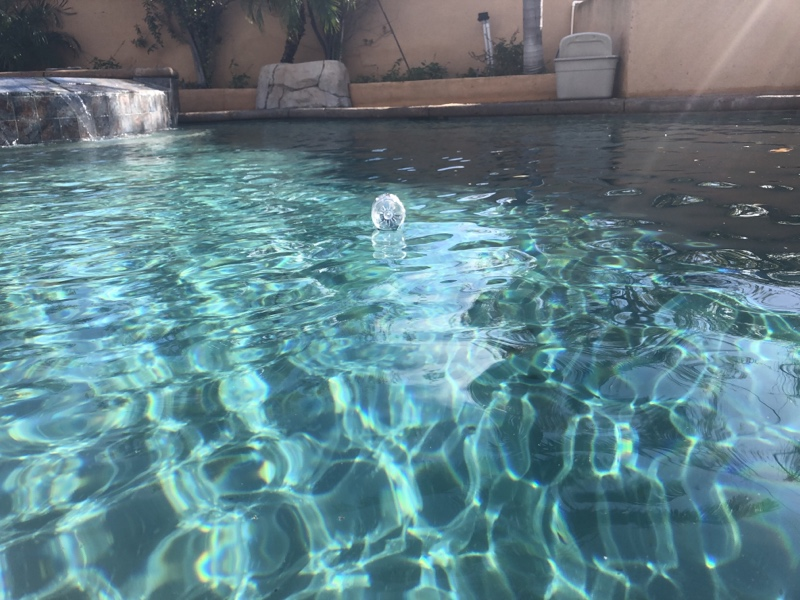Plastic Bottle: (369, 189, 408, 235)
